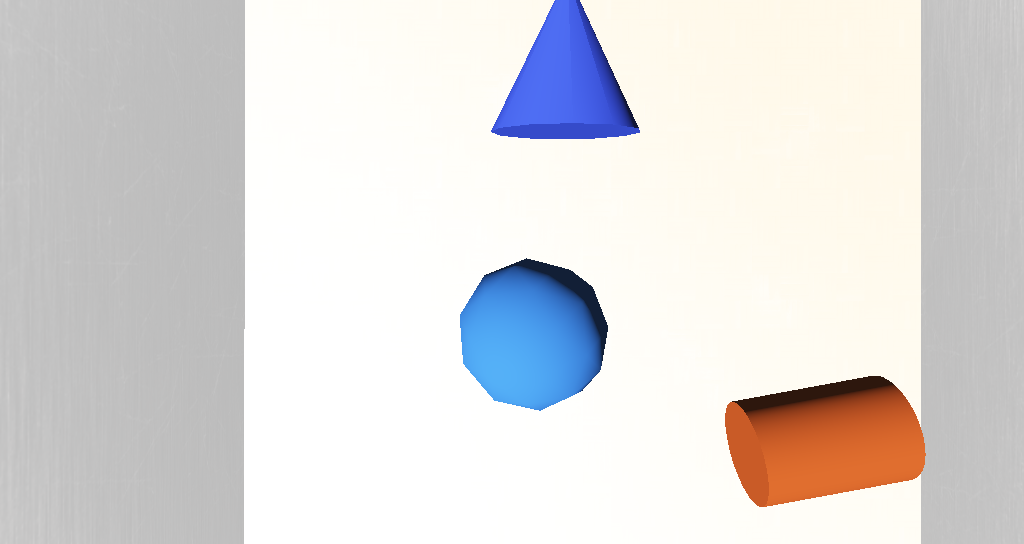cone: (569, 298, 643, 341)
cylinder: (468, 172, 529, 229)
sphere: (455, 262, 515, 310)
